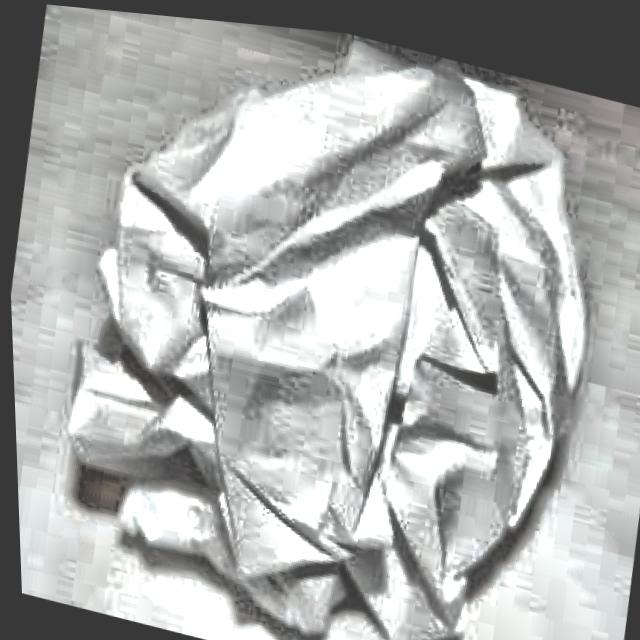Paper: (24, 2, 639, 640)
